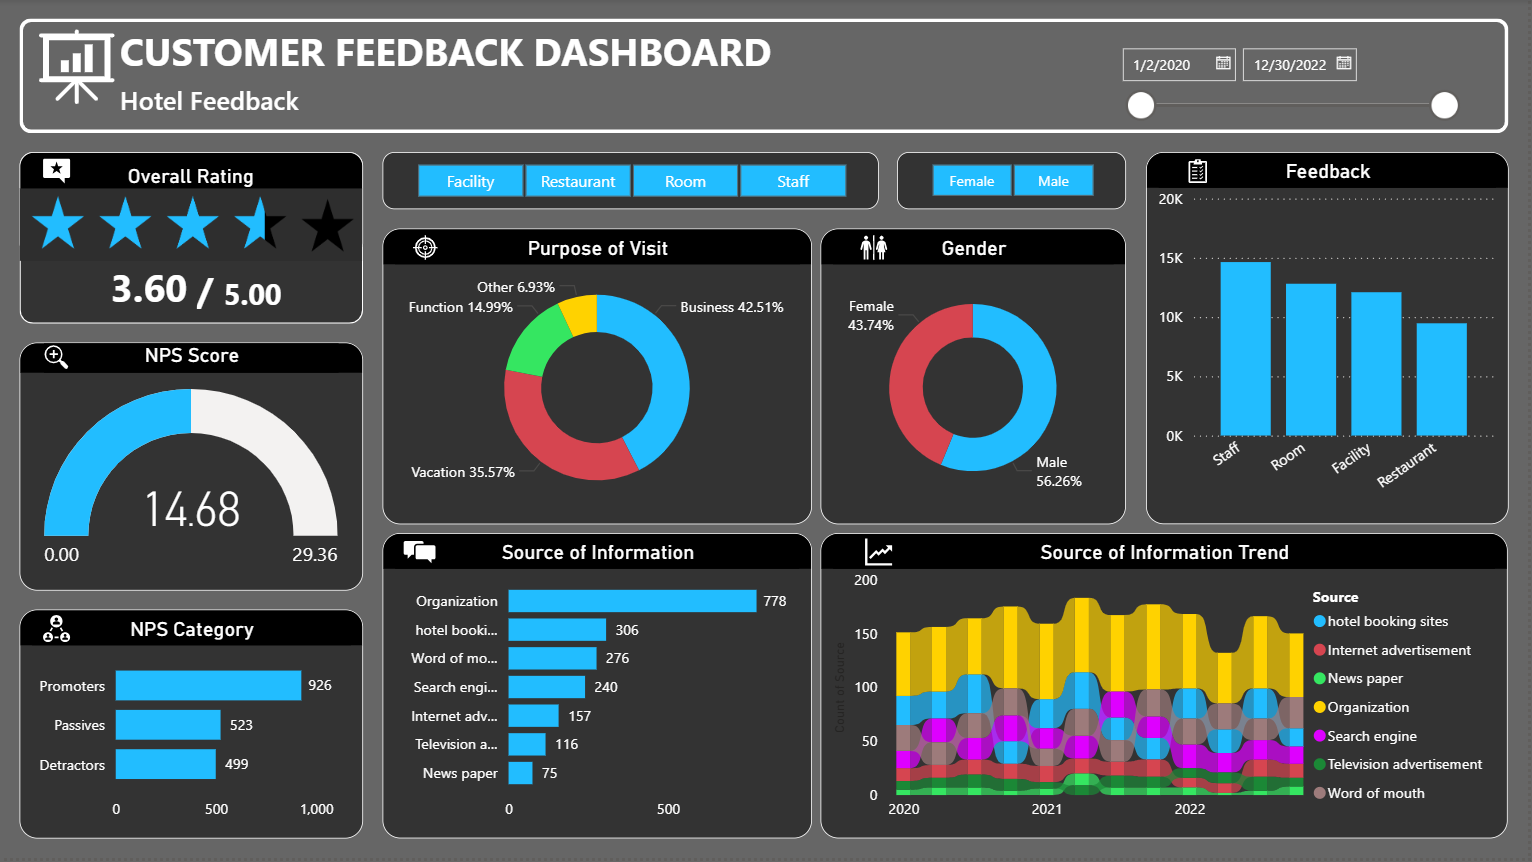

The dashboard page shown, as its layout file describes it:
{"tool":"powerbi","page":{"name":"Page 1","canvas":[1280,720],"ordinal":0},"visuals":[{"type":"shape","box":[16,128,288,144],"z":0},{"type":"shape","box":[16,16,1248,96],"z":1000},{"type":"slicer","fields":{"Values":["Feedback.Feedback Category"]},"box":[320,128,416,48],"z":2000},{"type":"slicer","fields":{"Values":["General.Gender"]},"box":[752,128,192,48],"z":3000},{"type":"donutChart","title":"Purpose of Visit","fields":{"Y":["CountNonNull(General.Purpose)"],"Category":["General.Purpose"]},"box":[320,192,360,248],"z":4000},{"type":"donutChart","title":"Gender","fields":{"Y":["CountNonNull(General.Gender)"],"Category":["General.Gender"]},"box":[688,192,256,248],"z":5000},{"type":"columnChart","title":"Feedback","fields":{"Y":["Sum(Feedback.Rating Score)"],"Category":["Feedback.Feedback Category"]},"box":[960,128,304,312],"z":6000},{"type":"gauge","fields":{"Y":["General.NPS Score"]},"box":[16,288,288,208],"z":7000},{"type":"barChart","title":"NPS Category","fields":{"Category":["General.NPS"],"Y":["CountNonNull(General.NPS)"]},"box":[16,512,288,192],"z":8000},{"type":"barChart","title":"Source of Information","fields":{"Y":["CountNonNull(General.Source)"],"Category":["General.Source"]},"box":[320,448,360,256],"z":9000},{"type":"textbox","box":[16,128,288,88],"z":10000},{"type":"ribbonChart","title":"Source of Information Trend","fields":{"Category":["General.Checkout Date (bins)"],"Y":["CountNonNull(General.Source)"],"Series":["General.Source"]},"box":[688,448,576,256],"z":11000},{"type":"barChart","title":"Overall Rating","fields":{"Y":["Avg(General.Overall Experience)"]},"box":[16,72,288,232],"z":12000},{"type":"image","box":[16,64,287,250],"z":13000},{"type":"slicer","fields":{"Values":["General.Checkout Date"]},"box":[928,32,304,80],"z":14000},{"type":"textbox","box":[96,16,592,56],"z":15000},{"type":"cardVisual","fields":{"Data":["Avg(General.Overall Experience)"]},"box":[64,208,128,64],"z":16000},{"type":"textbox","box":[160,216,128,56],"z":17000},{"type":"textbox","box":[96,64,304,48],"z":18000},{"type":"image","box":[16,16,96,80],"z":19000},{"type":"image","box":[32,128,32,32],"z":20000},{"type":"image","box":[32,288,32,24],"z":21000},{"type":"image","box":[32,512,32,32],"z":22000},{"type":"image","box":[344,192,24,32],"z":23000},{"type":"image","box":[336,448,32,32],"z":24000},{"type":"image","box":[720,192,24,32],"z":25000},{"type":"image","box":[720,448,32,32],"z":26000},{"type":"image","box":[992,128,24,32],"z":27000}]}

Visuals, with their boxes in screenshot pixels (x1, y1, x2, y2), scaled from the page's 1280x720 canvas onto the 1532x862 screenshot:
shape: x1=19, y1=153, x2=364, y2=326
shape: x1=19, y1=19, x2=1513, y2=134
slicer - Feedback.Feedback Category: x1=383, y1=153, x2=881, y2=211
slicer - General.Gender: x1=900, y1=153, x2=1130, y2=211
"Purpose of Visit" donutChart: x1=383, y1=230, x2=814, y2=527
"Gender" donutChart: x1=823, y1=230, x2=1130, y2=527
"Feedback" columnChart: x1=1149, y1=153, x2=1513, y2=527
gauge - General.NPS Score: x1=19, y1=345, x2=364, y2=594
"NPS Category" barChart: x1=19, y1=613, x2=364, y2=843
"Source of Information" barChart: x1=383, y1=536, x2=814, y2=843
textbox: x1=19, y1=153, x2=364, y2=259
"Source of Information Trend" ribbonChart: x1=823, y1=536, x2=1513, y2=843
"Overall Rating" barChart: x1=19, y1=86, x2=364, y2=364
image: x1=19, y1=77, x2=363, y2=376
slicer - General.Checkout Date: x1=1111, y1=38, x2=1475, y2=134
textbox: x1=115, y1=19, x2=823, y2=86
cardVisual - Avg(General.Overall Experience): x1=77, y1=249, x2=230, y2=326
textbox: x1=192, y1=259, x2=345, y2=326
textbox: x1=115, y1=77, x2=479, y2=134
image: x1=19, y1=19, x2=134, y2=115
image: x1=38, y1=153, x2=77, y2=192
image: x1=38, y1=345, x2=77, y2=374
image: x1=38, y1=613, x2=77, y2=651
image: x1=412, y1=230, x2=440, y2=268
image: x1=402, y1=536, x2=440, y2=575
image: x1=862, y1=230, x2=890, y2=268
image: x1=862, y1=536, x2=900, y2=575
image: x1=1187, y1=153, x2=1216, y2=192
